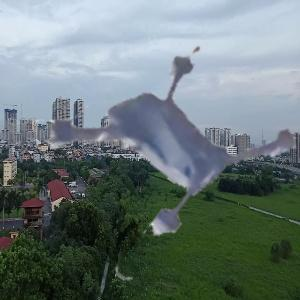drone: (2, 20, 271, 289)
